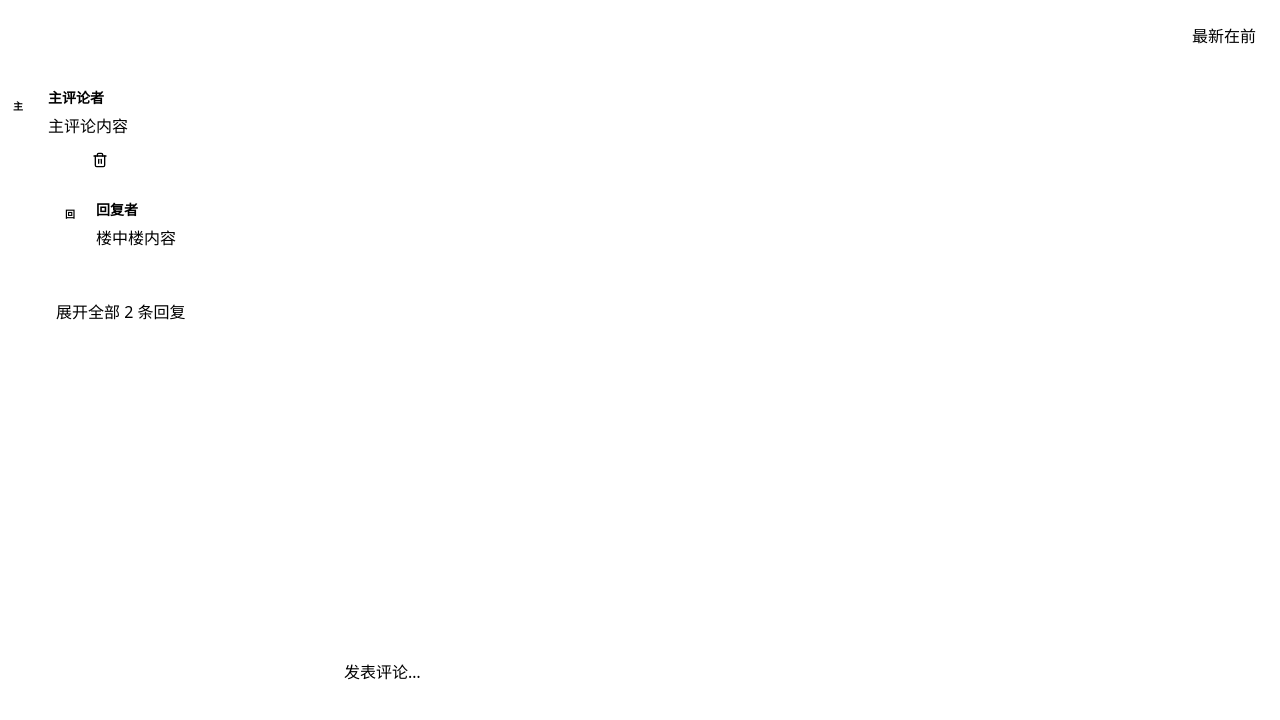
Scenario: MomentComments › 只用按钮切换正倒序，不显示回复者筛选
Click the button with aria-label "评论排序": (1214, 36) [1163, 20, 1265, 52]
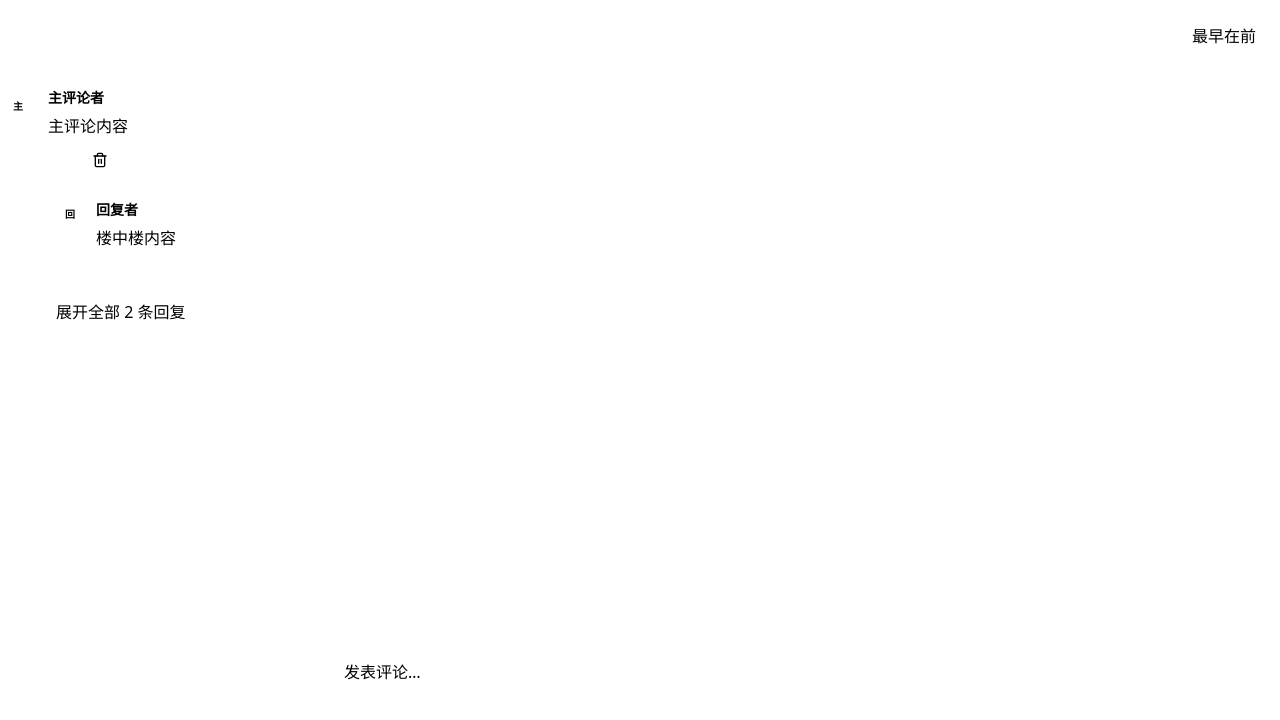
Check: the button with aria-label "评论排序" reads "最早在前", box [1163, 20, 1265, 52]
